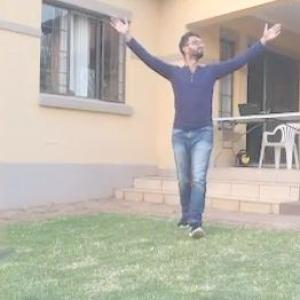takeoff: (87, 0, 299, 230)
